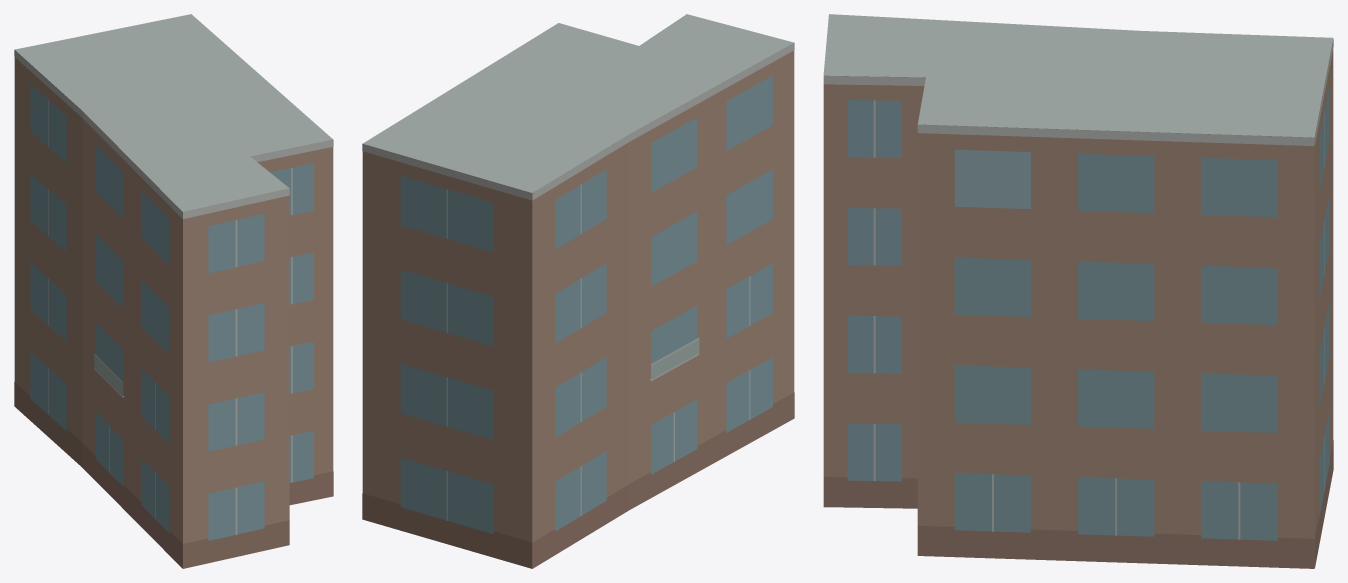
File: survey-upis-32639937.glb
3 renders of one model, left to right at view 1: azimuth 30°, elevation 25°; view 2: azimuth 150°, elevation 25°; view 3: azimuth 270°, elevation 25°, orthographic. The views are drawn at different scales.
Parts seen in each view (by area): view 1: survey-upis-32639937.tmp; view 2: survey-upis-32639937.tmp; view 3: survey-upis-32639937.tmp.
Part boxes in pixels (left/top/right/bottom): survey-upis-32639937.tmp: left=14, top=14, right=333, bottom=568; survey-upis-32639937.tmp: left=362, top=14, right=794, bottom=568; survey-upis-32639937.tmp: left=823, top=14, right=1333, bottom=568.
Size of the model in its own units: 7.5 by 12.2 by 13.08.
